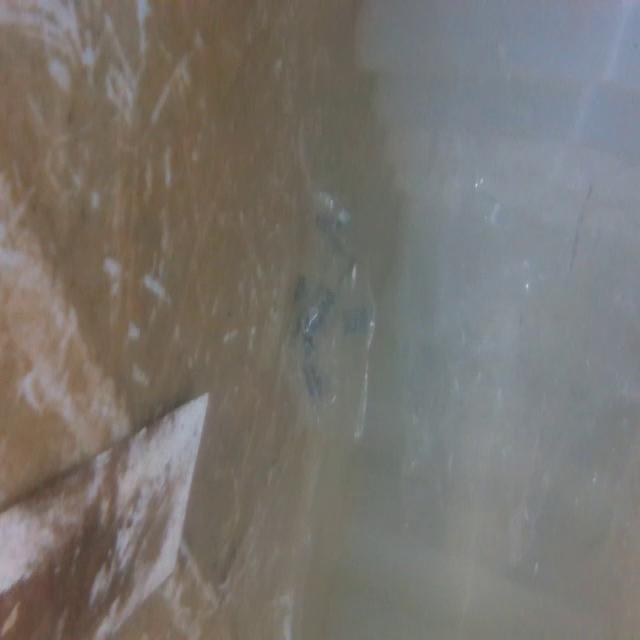metal: (0, 386, 218, 640)
plastic bags: (412, 102, 596, 640), (272, 185, 383, 459)
